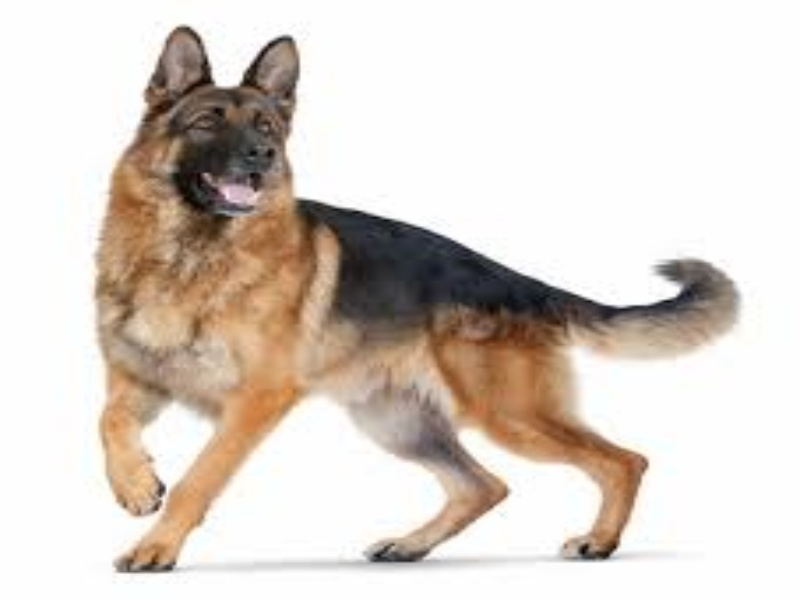dog: (43, 5, 754, 570)
